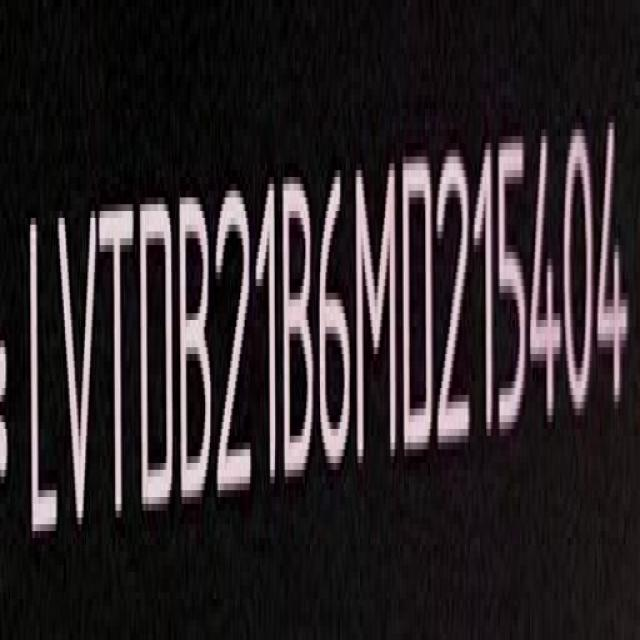0: (564, 120, 596, 427)
1: (259, 183, 282, 501), (474, 137, 496, 448)
2: (216, 186, 254, 509), (437, 144, 472, 462)
4: (529, 128, 564, 436), (598, 114, 632, 424)
5: (498, 128, 530, 444)
6: (319, 167, 353, 483)
B: (180, 189, 215, 518), (284, 172, 317, 490)
D: (136, 192, 174, 523), (402, 148, 436, 468)
L: (20, 207, 59, 551)
M: (358, 155, 401, 473)
T: (101, 189, 136, 534)
V: (54, 196, 100, 546)
